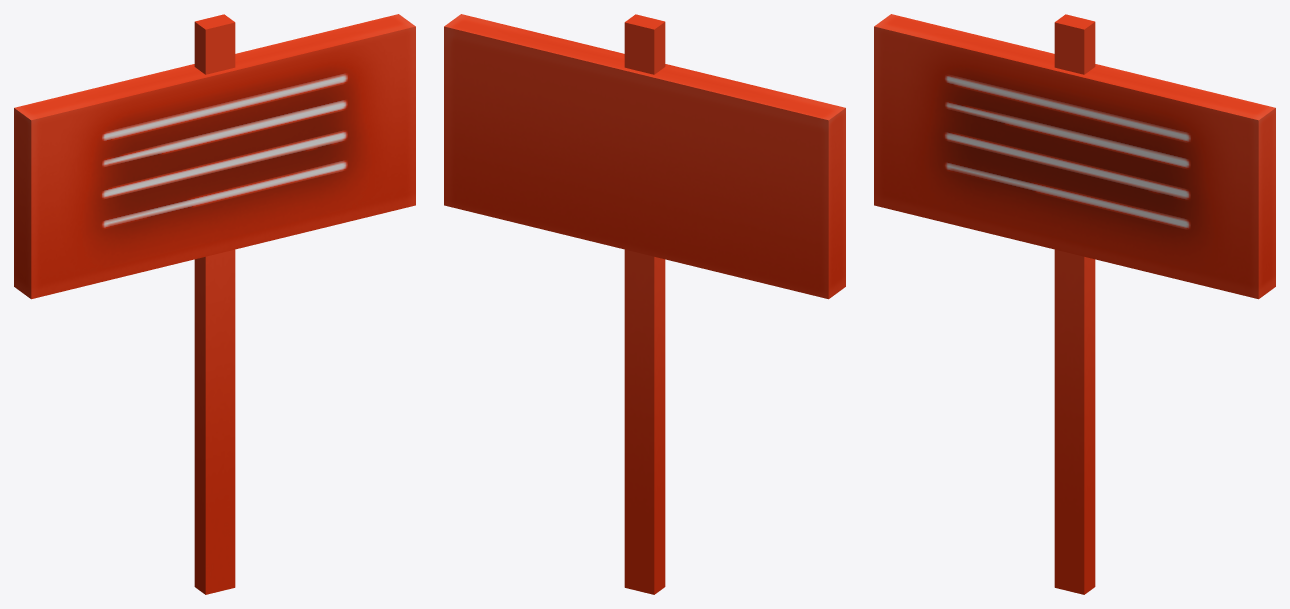
File: Asset_Prop_Signpost_04.fbx
3 renders of one model, left to right at view 1: azimuth 30°, elevation 25°; view 2: azimuth 150°, elevation 25°; view 3: azimuth 330°, elevation 25°, orthographic.
Parts seen in each view (by area): view 1: Asset_Prop_SignPost_04; view 2: Asset_Prop_SignPost_04; view 3: Asset_Prop_SignPost_04.
Boxes of the visible parts, left/top/right/bottom form: Asset_Prop_SignPost_04: left=14, top=14, right=415, bottom=594; Asset_Prop_SignPost_04: left=444, top=14, right=845, bottom=594; Asset_Prop_SignPost_04: left=874, top=14, right=1275, bottom=594.
Bounding box in the file's own units: 30.29 × 42.54 × 2.33.
